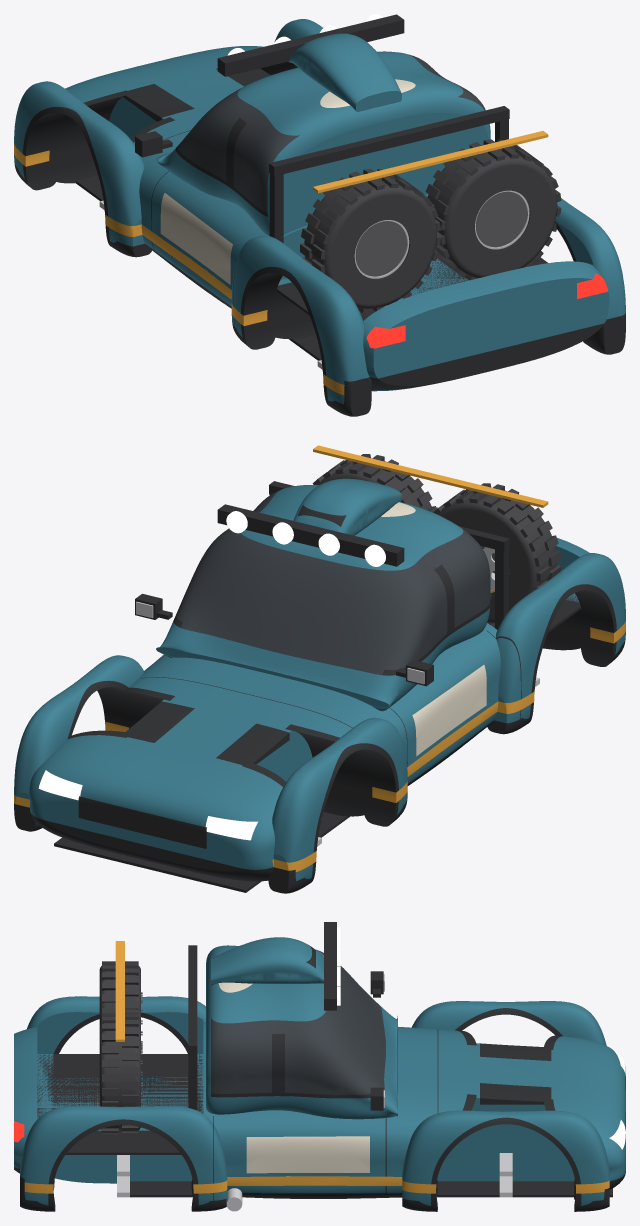
Rendered from body.glb.
3 views of the same model, one above another, from view 1: azimuth 30°, elevation 25°; view 2: azimuth 150°, elevation 25°; view 3: azimuth 270°, elevation 25° (orthographic). The views are drawn at different scales.
Parts seen in each view (by area): view 1: Livery, Carbon, Rubber, Glass, Hub, Accent, LiveryWhite, Light, Rim; view 2: Livery, Carbon, Glass, Rubber, Accent, LiveryWhite, Headlight; view 3: Livery, Carbon, Glass, Rubber, LiveryWhite, Accent, Metal, Headlight.
Boxes of the visible parts, x1=… form: Livery: x1=14, y1=19, x2=625, y2=404; Carbon: x1=14, y1=14, x2=625, y2=416; Rubber: x1=300, y1=139, x2=561, y2=313; Glass: x1=177, y1=54, x2=485, y2=212; Hub: x1=355, y1=191, x2=527, y2=276; Accent: x1=14, y1=131, x2=548, y2=395; LiveryWhite: x1=160, y1=79, x2=415, y2=284; Light: x1=366, y1=273, x2=608, y2=348; Rim: x1=354, y1=190, x2=529, y2=278; Livery: x1=14, y1=478, x2=625, y2=880; Carbon: x1=14, y1=481, x2=625, y2=893; Glass: x1=176, y1=490, x2=490, y2=674; Rubber: x1=312, y1=454, x2=561, y2=626; Accent: x1=14, y1=445, x2=625, y2=871; LiveryWhite: x1=381, y1=502, x2=486, y2=756; Headlight: x1=38, y1=511, x2=385, y2=840; Livery: x1=14, y1=937, x2=625, y2=1205; Carbon: x1=14, y1=922, x2=625, y2=1211; Glass: x1=211, y1=949, x2=385, y2=1094; Rubber: x1=99, y1=961, x2=140, y2=1134; LiveryWhite: x1=218, y1=982, x2=369, y2=1173; Accent: x1=24, y1=941, x2=609, y2=1193; Metal: x1=117, y1=974, x2=512, y2=1211; Headlight: x1=337, y1=927, x2=625, y2=1149.
Size of the model in its own units: 2.3 by 1.84 by 4.72.
